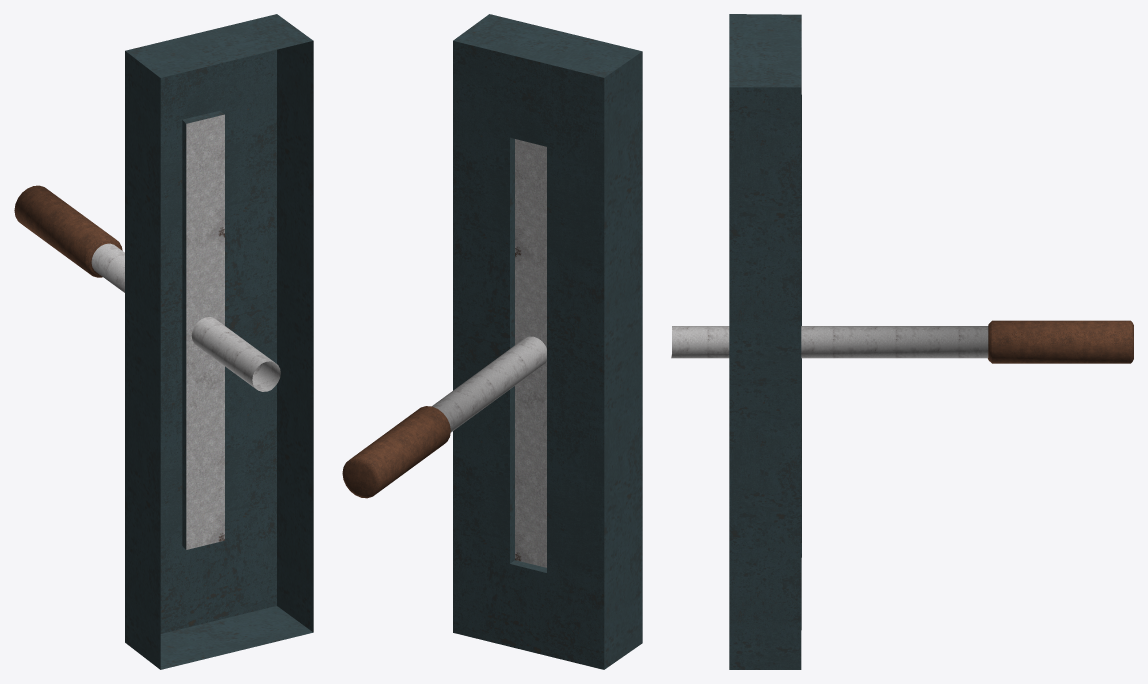
Rendered from LeverSwitch.fbx.
3 views of the same model, side by side, from view 1: azimuth 30°, elevation 25°; view 2: azimuth 150°, elevation 25°; view 3: azimuth 270°, elevation 25° (orthographic).
Visible parts, largest first — view 1: LeverBody, Lever; view 2: LeverBody, Lever; view 3: LeverBody, Lever.
Part boxes in pixels (box(x1,y1,x2,y2)): LeverBody: box(125, 14, 313, 669); Lever: box(14, 185, 280, 391); LeverBody: box(453, 14, 642, 669); Lever: box(342, 336, 546, 498); LeverBody: box(729, 14, 801, 669); Lever: box(671, 320, 1133, 363).
Bounding box in the file's own units: 21.49 × 79.43 × 57.21.
